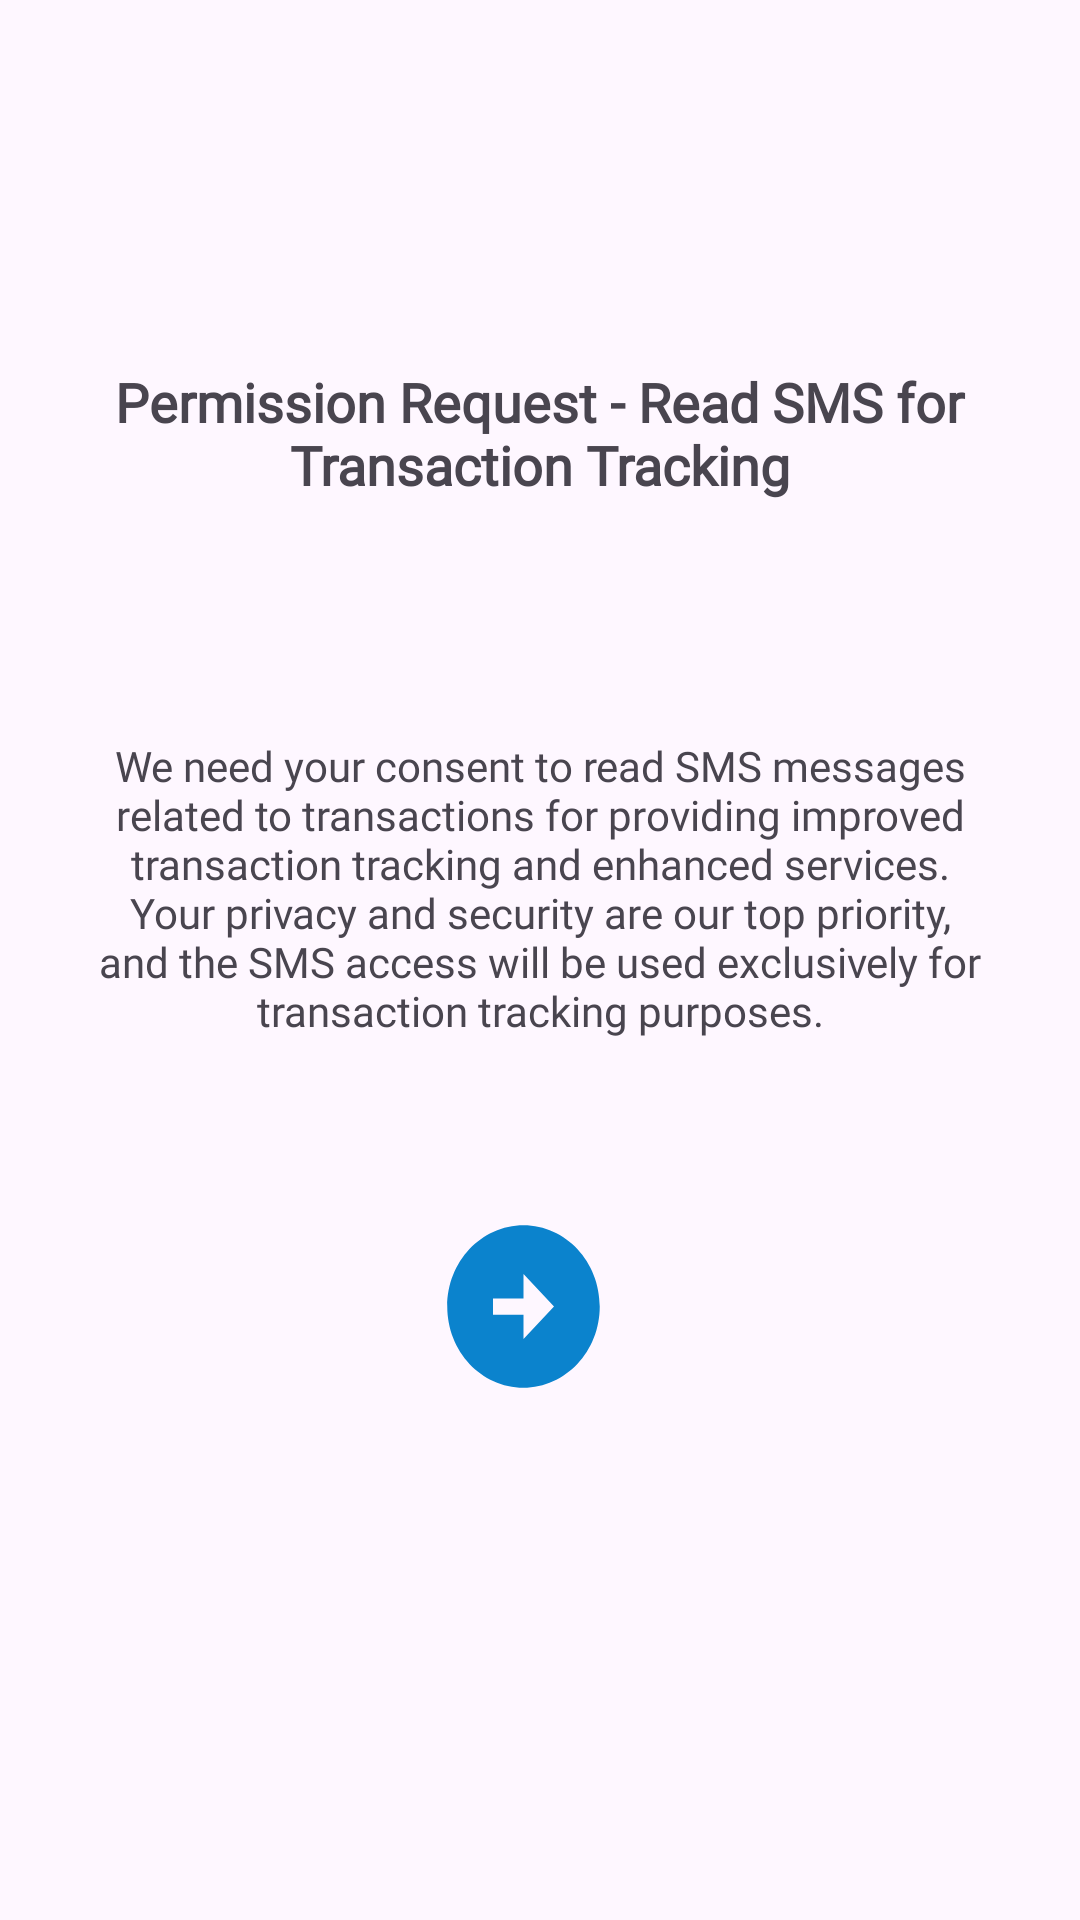

Locate icon controls on the screen. Image size 1080 × 1920, boxes as box=[x1, y1, x2, y2].
arrow circle right: box=[447, 1225, 600, 1388]
